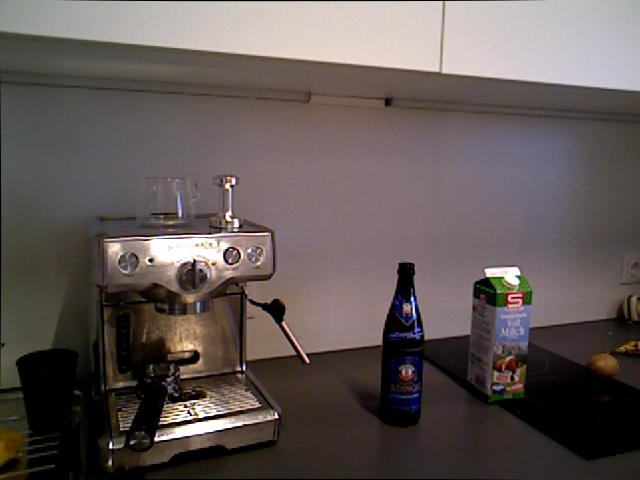bench: (461, 263, 535, 404), (379, 261, 425, 427)
giraffe: (619, 291, 640, 327)
handbag: (13, 345, 86, 443), (135, 174, 199, 226)
motorcycle: (603, 333, 640, 360)
